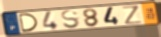4: (103, 6, 123, 27), (42, 10, 59, 32)
8: (82, 8, 101, 28)
D: (18, 12, 40, 33)
S: (60, 9, 82, 30)
Z: (121, 4, 145, 26)
